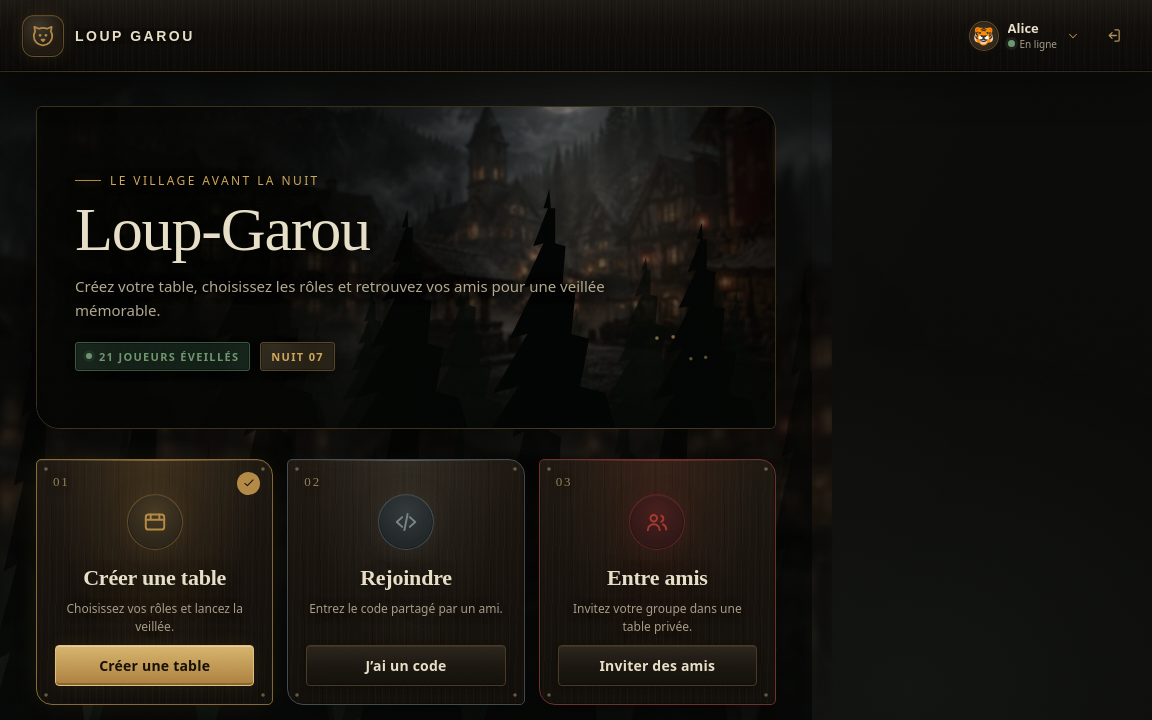
Test: Home › ouvre le dialogue de création sur mobile
Click the button "Créer une table" at (155, 665), box [55,645,254,686]
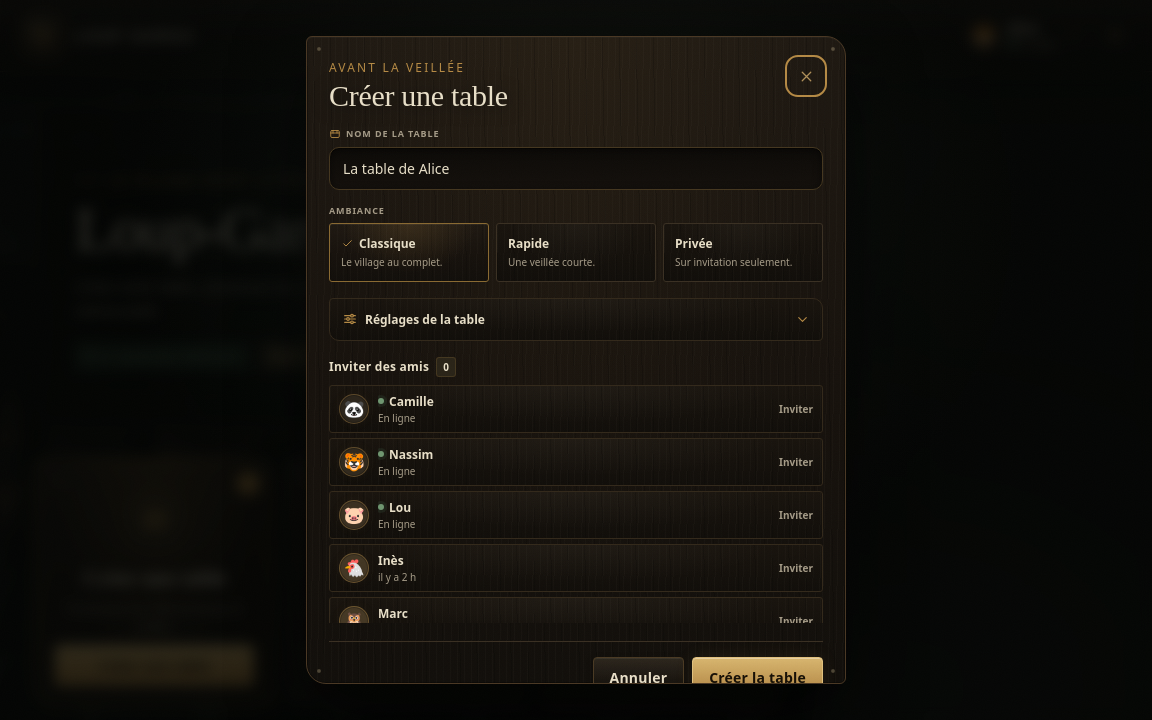
Result: the dialog "Créer une table" is shown at [306,36,846,684]
Result: the heading "Inviter des amis" is shown at [329,358,429,375]
